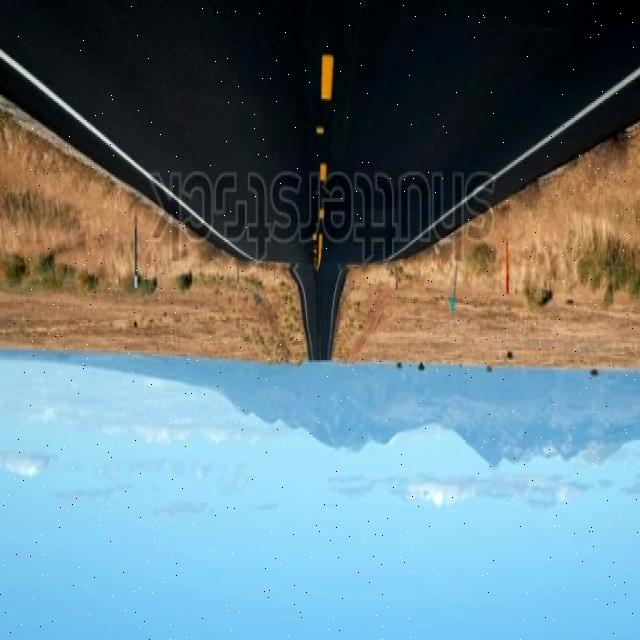lane: (322, 55, 334, 101), (320, 162, 328, 183), (317, 126, 324, 137)
road: (1, 4, 640, 360)
